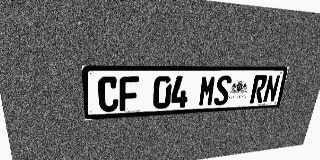0: (153, 76, 172, 109)
4: (170, 76, 190, 108)
C: (98, 76, 119, 112)
F: (119, 76, 139, 111)
M: (198, 75, 217, 106)
N: (262, 75, 281, 103)
R: (249, 75, 268, 103)
S: (213, 75, 232, 106)
